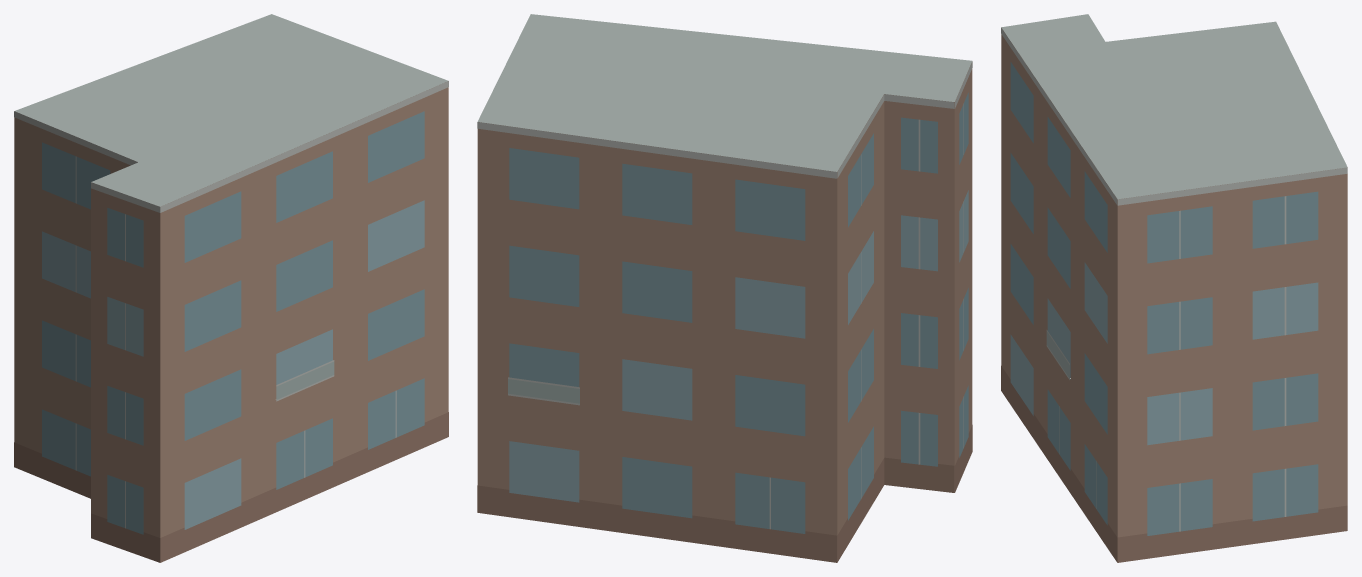
The model's file is survey-upis-32475519.glb.
3 views of the same model, side by side, from view 1: azimuth 30°, elevation 25°; view 2: azimuth 150°, elevation 25°; view 3: azimuth 270°, elevation 25° (orthographic). The views are drawn at different scales.
Parts seen in each view (by area): view 1: survey-upis-32475519.tmp; view 2: survey-upis-32475519.tmp; view 3: survey-upis-32475519.tmp.
Boxes of the visible parts, x1=… form: survey-upis-32475519.tmp: x1=14, y1=14, x2=448, y2=562; survey-upis-32475519.tmp: x1=477, y1=14, x2=972, y2=562; survey-upis-32475519.tmp: x1=1001, y1=14, x2=1347, y2=562.
Size of the model in its own units: 15.23 by 13.92 by 12.04.
